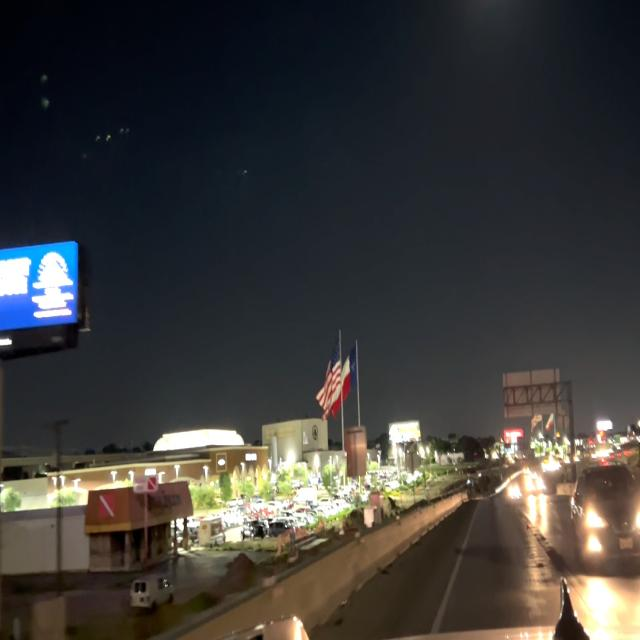back-of-sign: (499, 364, 563, 423), (342, 424, 366, 482)
